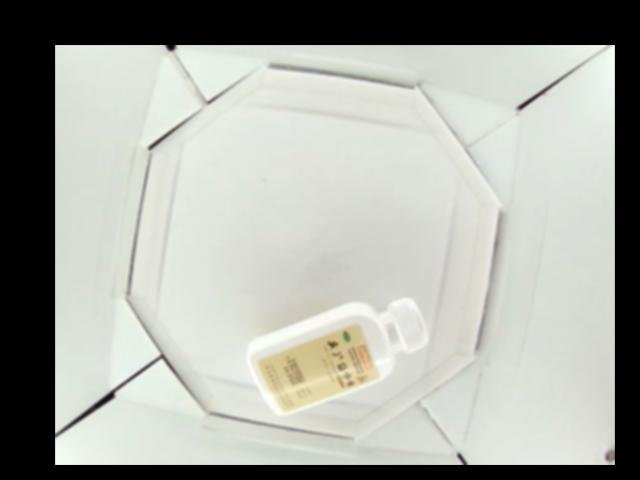Bottle: (244, 296, 429, 413)
